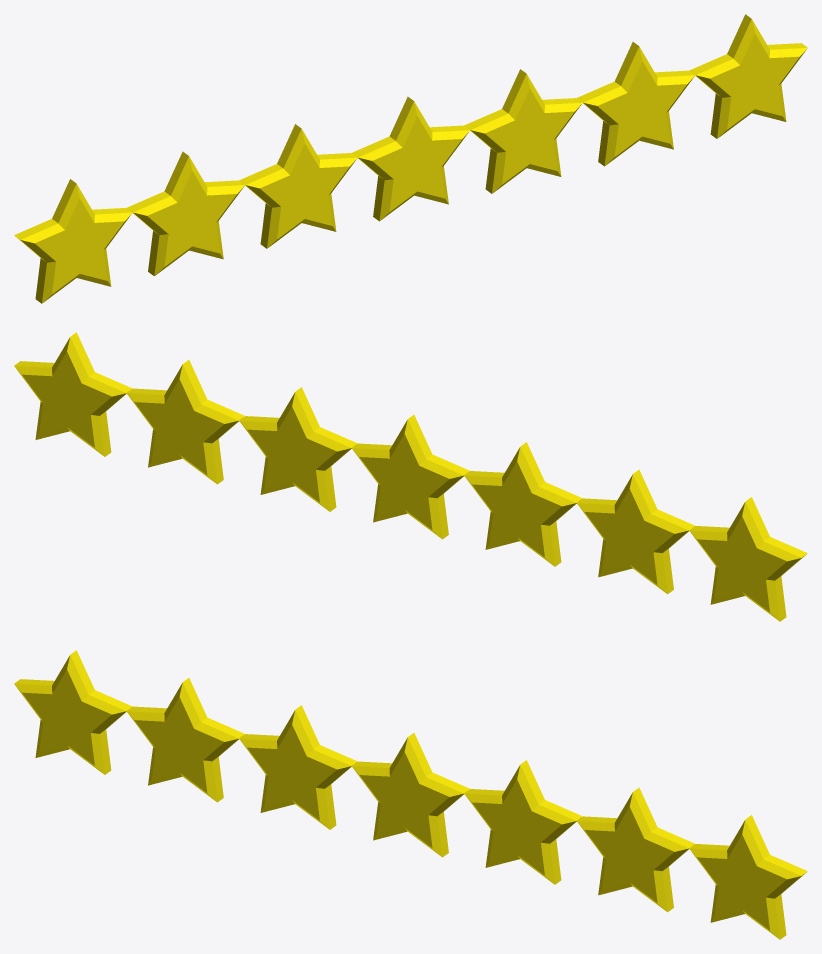
File: starRails.fbx
3 views of the same model, one above another, from view 1: azimuth 30°, elevation 25°; view 2: azimuth 150°, elevation 25°; view 3: azimuth 330°, elevation 25° (orthographic).
Parts seen in each view (by area): view 1: starRails; view 2: starRails; view 3: starRails.
Boxes of the visible parts, x1,y1,x2,y2 form: starRails: [14, 14, 807, 303]; starRails: [14, 332, 807, 621]; starRails: [14, 650, 807, 939].
Size of the model in its own units: 55.12 by 7.48 by 1.55.
